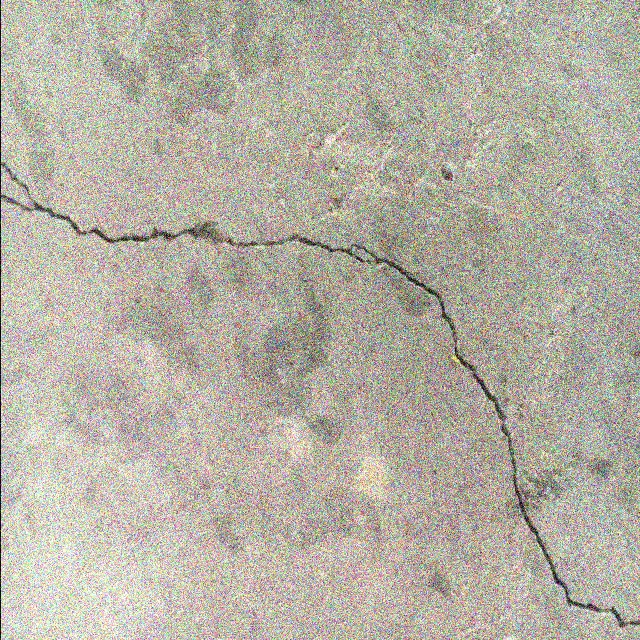SurfaceCrack: (1, 131, 640, 639)
